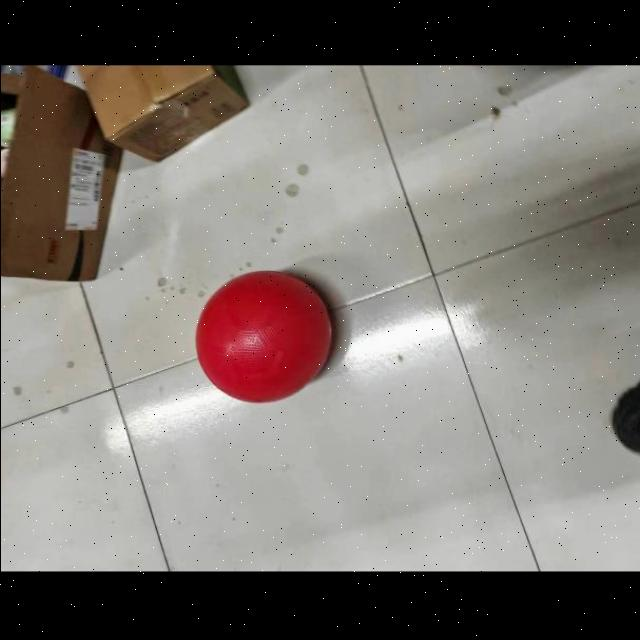R: (190, 263, 336, 409)
